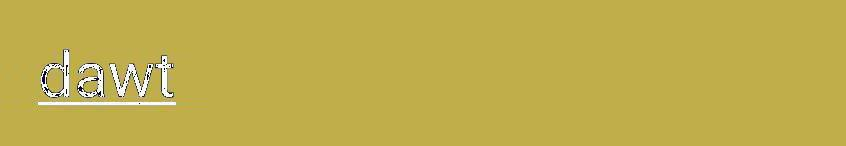EditText: (1, 1, 845, 145)
